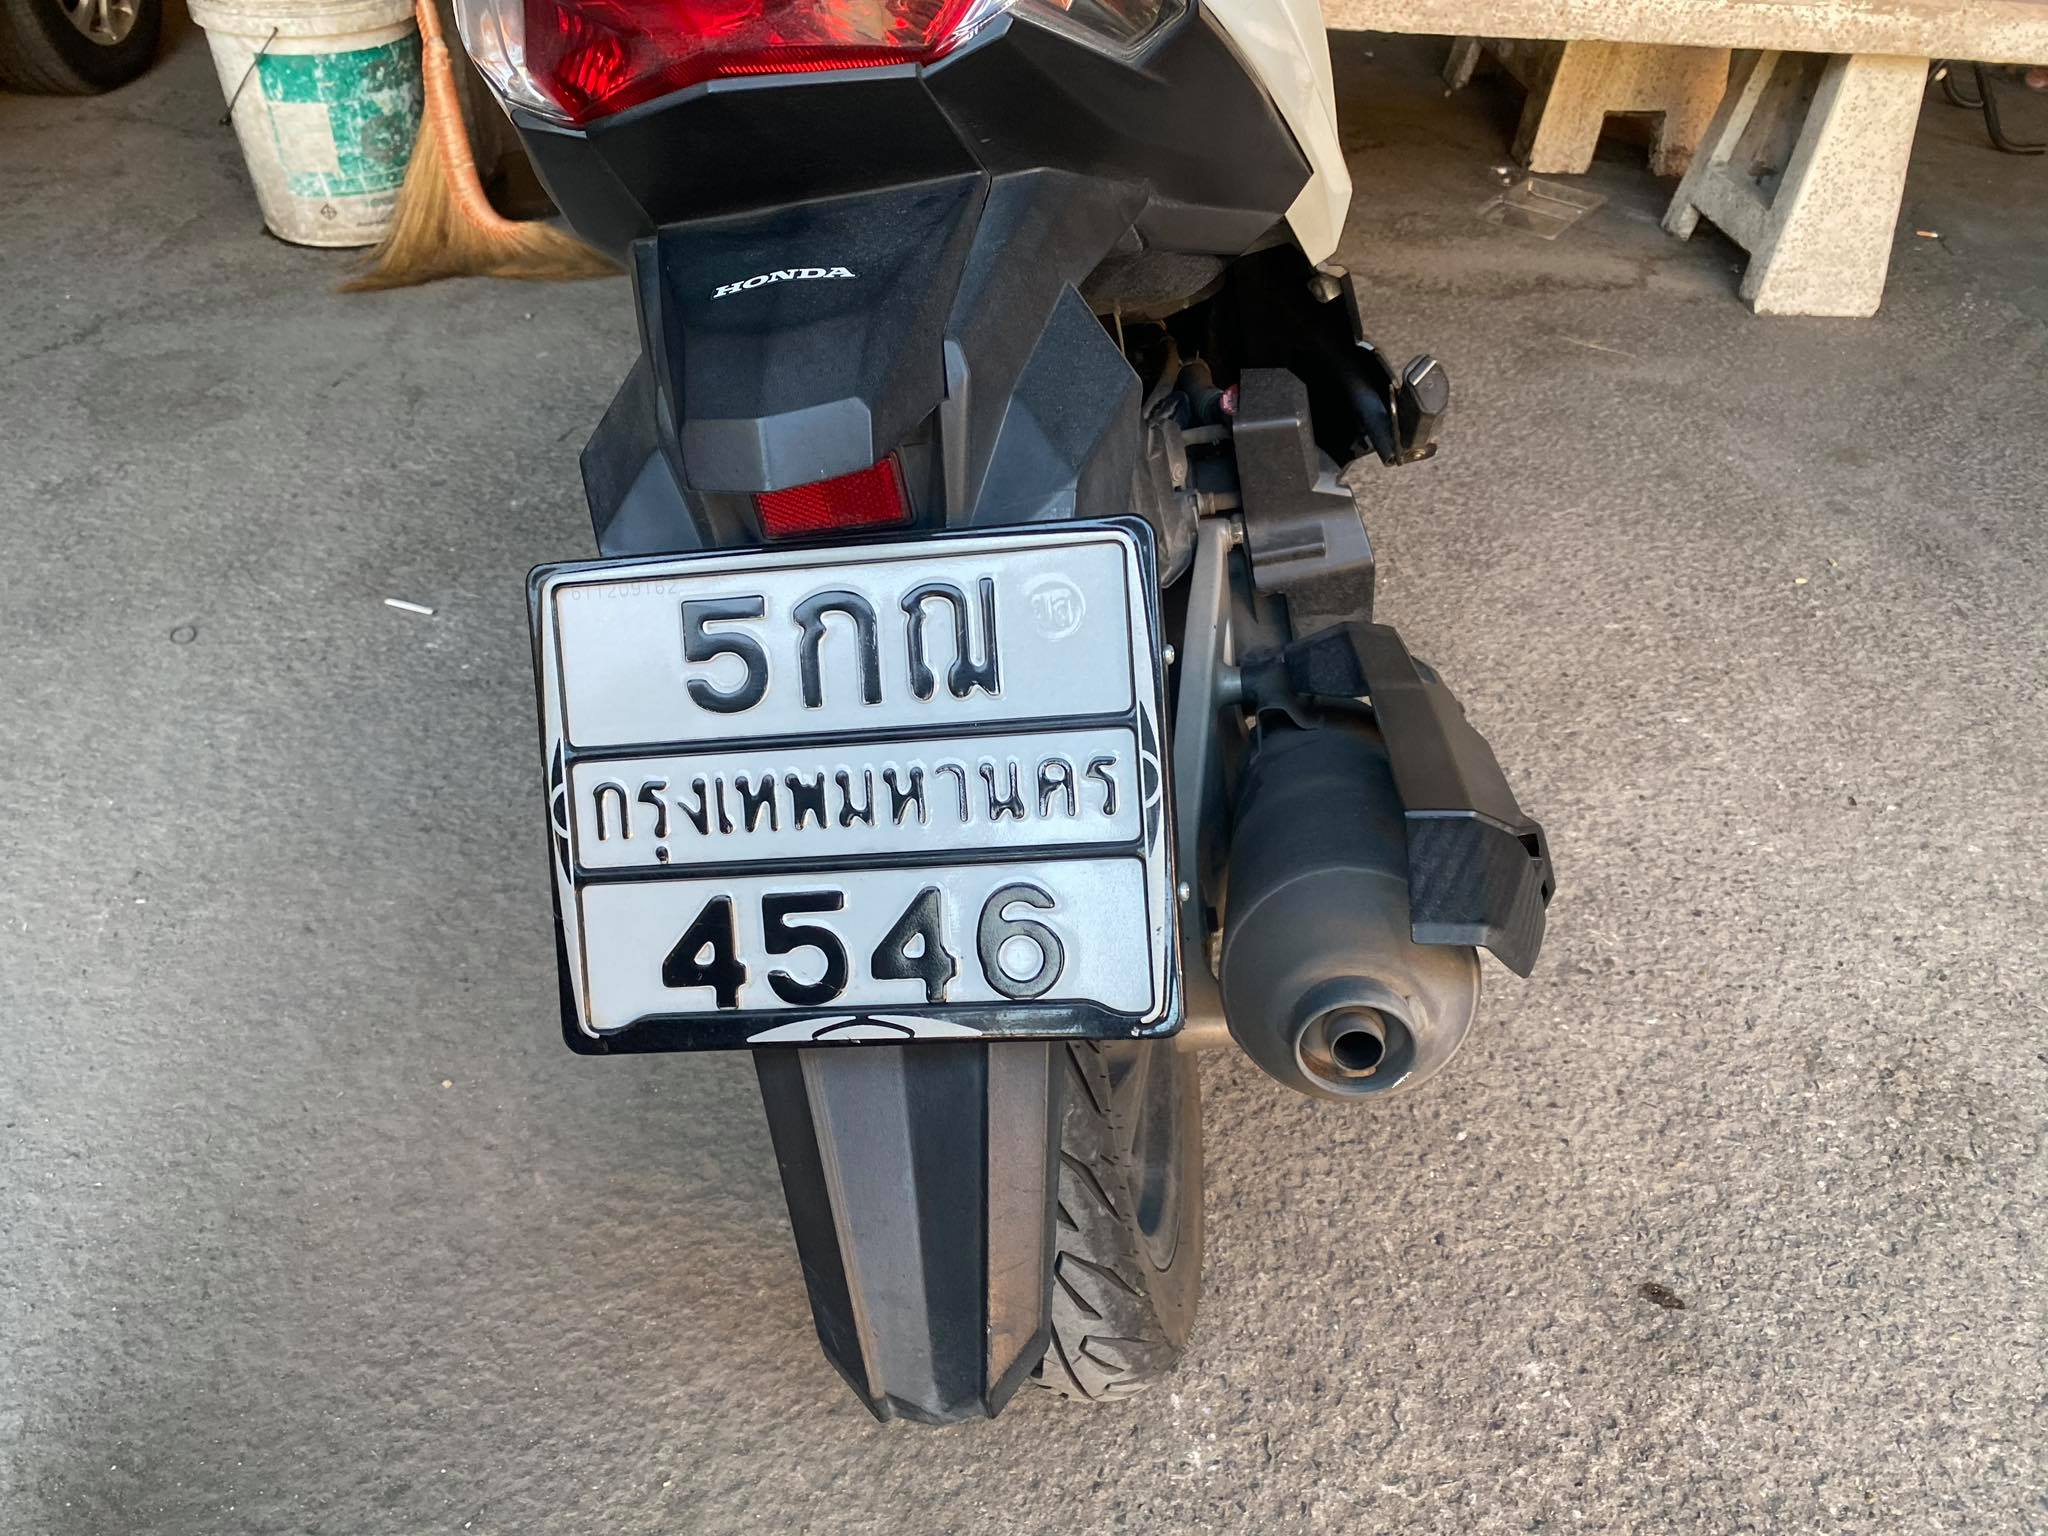line1: (660, 558, 1022, 733)
line2: (560, 736, 1148, 870)
line3: (627, 865, 1092, 1013)
